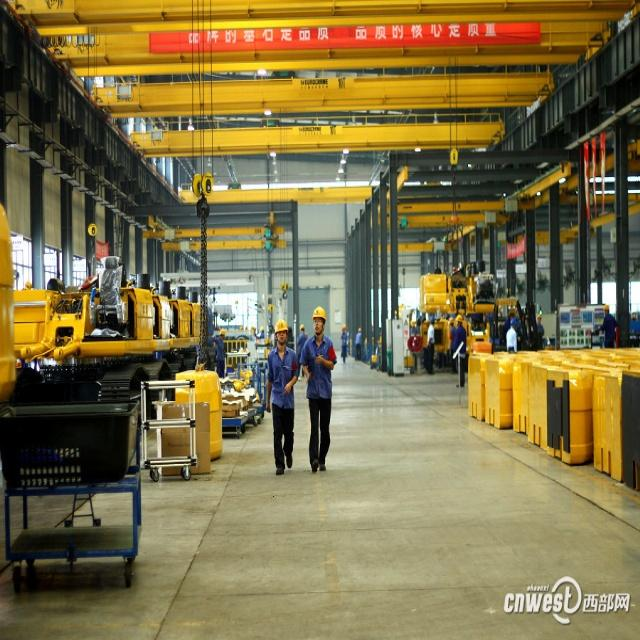helmet: (310, 408, 328, 449), (274, 422, 289, 462), (455, 419, 464, 436), (510, 423, 518, 441), (535, 415, 543, 433), (341, 429, 349, 444), (300, 430, 307, 446), (430, 420, 437, 436), (220, 439, 226, 456), (449, 421, 455, 435), (358, 436, 362, 448)
